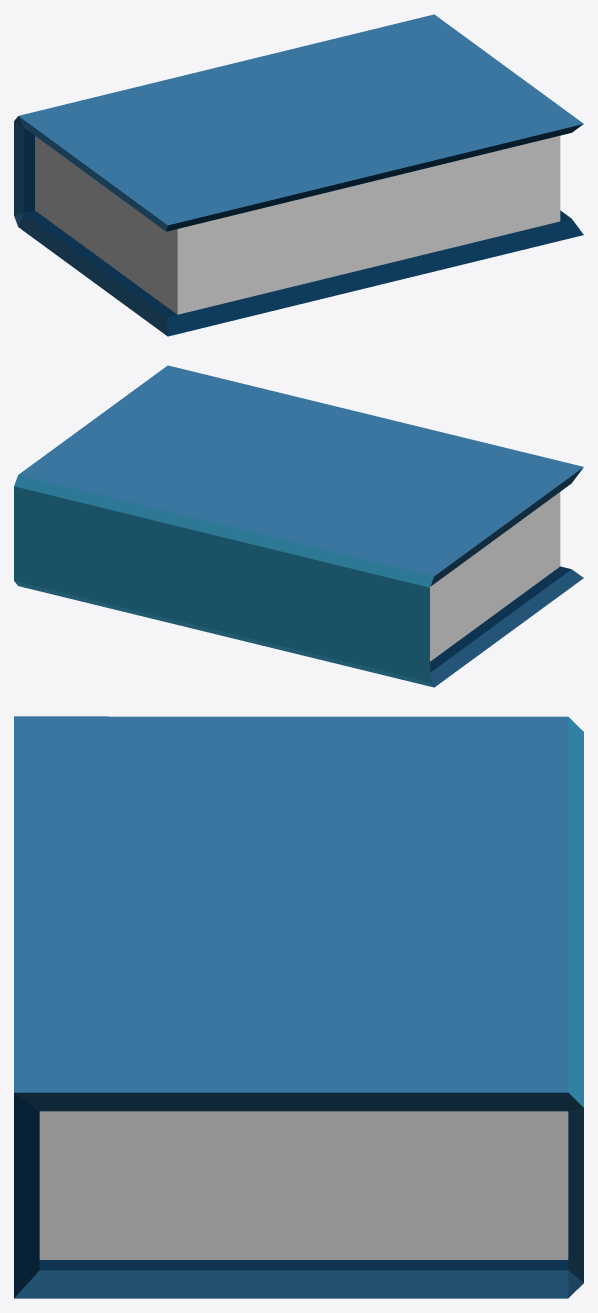
The model's file is book_1.fbx.
3 views of the same model, one above another, from view 1: azimuth 30°, elevation 25°; view 2: azimuth 150°, elevation 25°; view 3: azimuth 270°, elevation 25° (orthographic). The views are drawn at different scales.
Visible parts, largest first — view 1: book_1; view 2: book_1; view 3: book_1.
Part boxes in pixels (box(x1,y1,x2,y2)): book_1: box(14, 14, 583, 336); book_1: box(14, 365, 583, 687); book_1: box(14, 716, 583, 1298).
Bounding box in the file's own units: 272 × 69.37 × 174.
